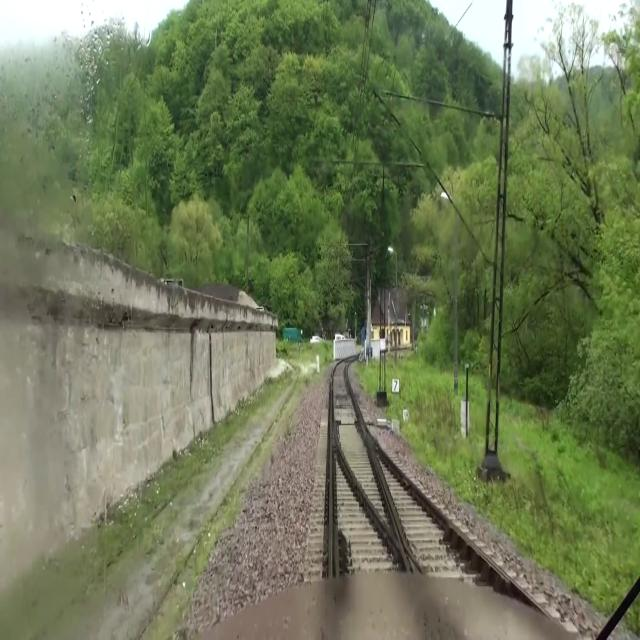rail-track: (371, 441, 544, 638), (332, 440, 425, 639), (333, 361, 392, 530)
